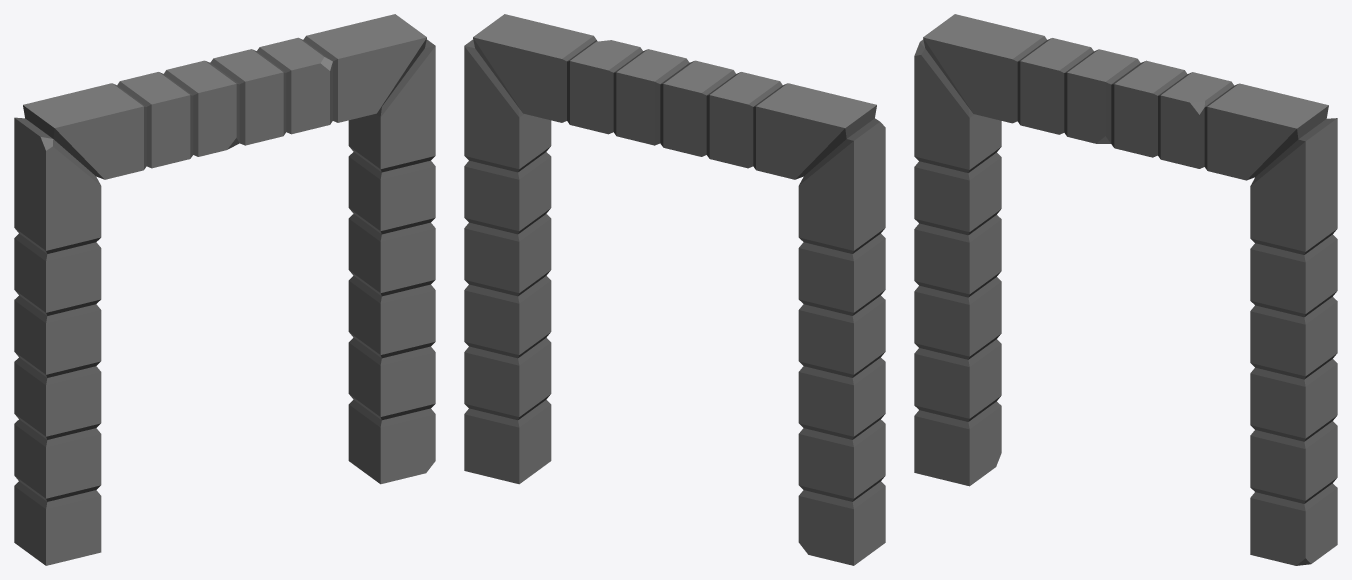
The model's file is Arch_05.fbx.
3 views of the same model, side by side, from view 1: azimuth 30°, elevation 25°; view 2: azimuth 150°, elevation 25°; view 3: azimuth 330°, elevation 25° (orthographic).
Parts seen in each view (by area): view 1: Arch_05; view 2: Arch_05; view 3: Arch_05.
Part boxes in pixels (x1,y1,x2,y2): Arch_05: (14, 14, 435, 565); Arch_05: (464, 14, 885, 565); Arch_05: (914, 14, 1337, 565).
Bounding box in the file's own units: 219 × 234 × 31.04.
